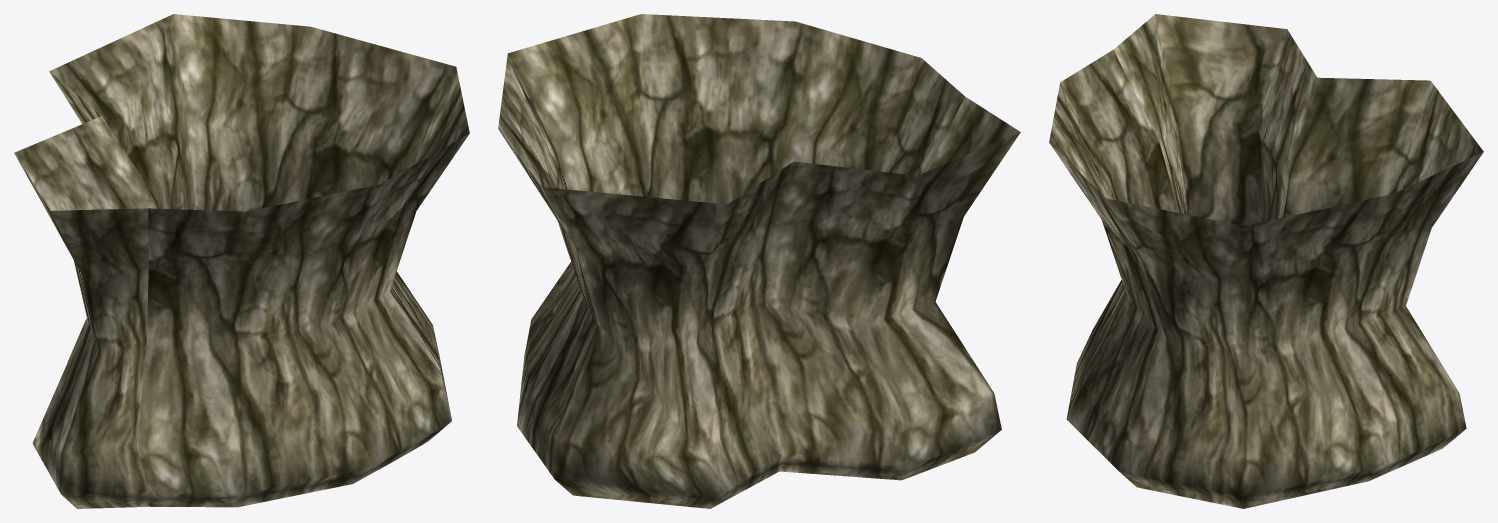
The model's file is CB_NEWPLAYSURFACE_CB_PLAYSURFACE48.fbx.
3 views of the same model, side by side, from view 1: azimuth 30°, elevation 25°; view 2: azimuth 150°, elevation 25°; view 3: azimuth 270°, elevation 25° (orthographic). The views are drawn at different scales.
Visible parts, largest first — view 1: CB_NEWPLAYSURFACE_CB_PLAYSURFACE48; view 2: CB_NEWPLAYSURFACE_CB_PLAYSURFACE48; view 3: CB_NEWPLAYSURFACE_CB_PLAYSURFACE48.
Part boxes in pixels (<box>): CB_NEWPLAYSURFACE_CB_PLAYSURFACE48: <box>14,14,469,508</box>; CB_NEWPLAYSURFACE_CB_PLAYSURFACE48: <box>498,14,1020,508</box>; CB_NEWPLAYSURFACE_CB_PLAYSURFACE48: <box>1049,14,1483,508</box>.
Size of the model in its own units: 84242 by 55787 by 73059.
Materials: 2 (2 with a texture image).
